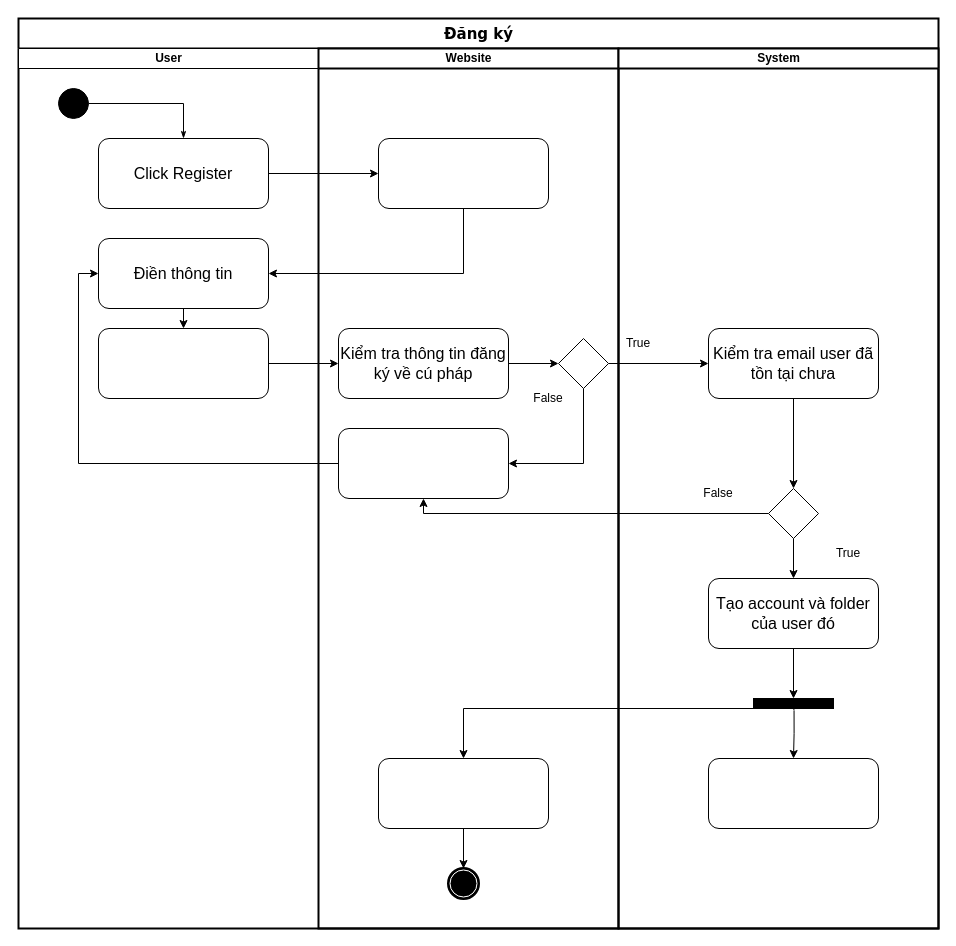
This 956x946 diagram has some shape labels left out. The shapes that lost their labels are listed below. From the top down, each one's centre as x and y in pixels, then its label:
At point 463,173: "Hiển thị form đăng ký".
At point 183,363: "Click đăng ký".
At point 423,463: "Hiển thị thông báo lỗi".
At point 463,793: "Vào trang quản lý thư mục".
At point 793,793: "Kết nối websocket".
